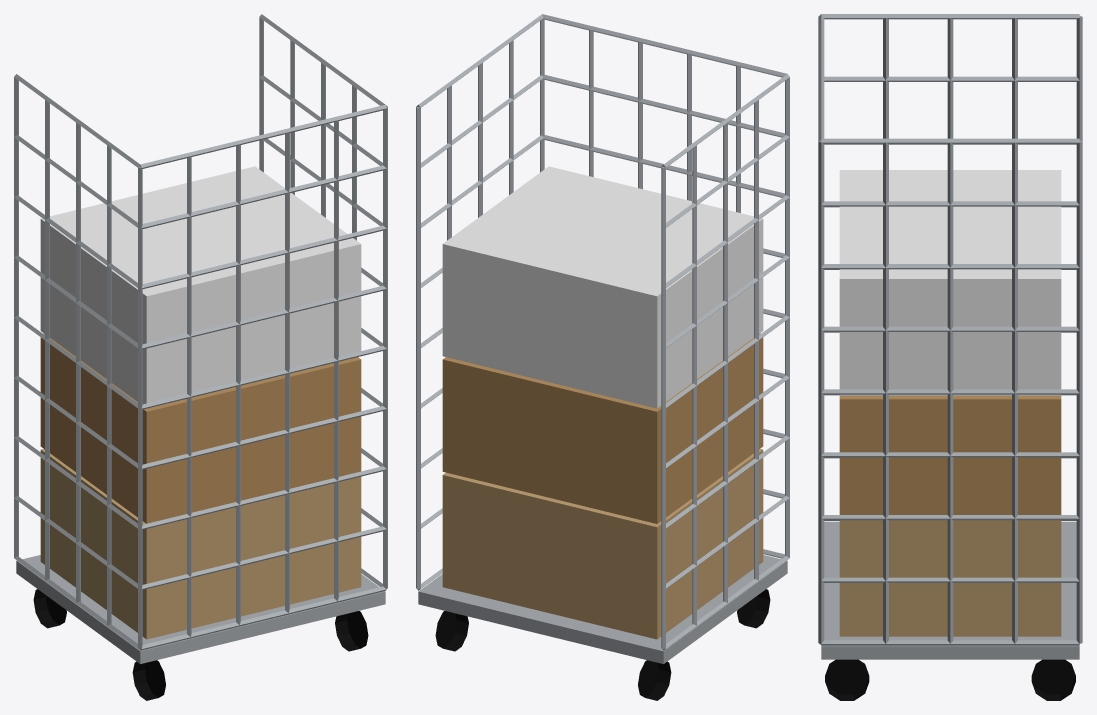
Rendered from industrial.depot.roll_cage.glb.
The picture shows the model from 3 angles, left to right: view 1: azimuth 30°, elevation 25°; view 2: azimuth 150°, elevation 25°; view 3: azimuth 270°, elevation 25°; orthographic projection. The views are drawn at different scales.
Visible parts, largest first — view 1: main__steel_galvanised, main__plastic_white, main__softwood, main__plywood, main__rubber; view 2: main__plastic_white, main__steel_galvanised, main__softwood, main__plywood, main__rubber; view 3: main__steel_galvanised, main__plastic_white, main__softwood, main__plywood, main__rubber.
Boxes of the visible parts, x1,y1,x2,y2 form: main__steel_galvanised: [14, 14, 387, 663]; main__plastic_white: [40, 166, 361, 404]; main__softwood: [40, 333, 361, 523]; main__plywood: [40, 449, 361, 639]; main__rubber: [33, 589, 368, 700]; main__plastic_white: [442, 166, 763, 408]; main__steel_galvanised: [416, 14, 789, 663]; main__softwood: [442, 333, 763, 523]; main__plywood: [442, 449, 763, 639]; main__rubber: [435, 589, 770, 700]; main__steel_galvanised: [818, 14, 1082, 659]; main__plastic_white: [839, 170, 1061, 395]; main__softwood: [839, 396, 1061, 514]; main__plywood: [839, 520, 1061, 636]; main__rubber: [825, 659, 1075, 700].
Bounding box in the file's own units: 0.816 × 1.71 × 0.716.
